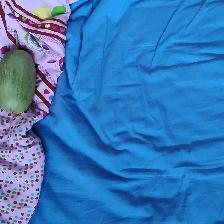gua: (1, 38, 31, 122)
